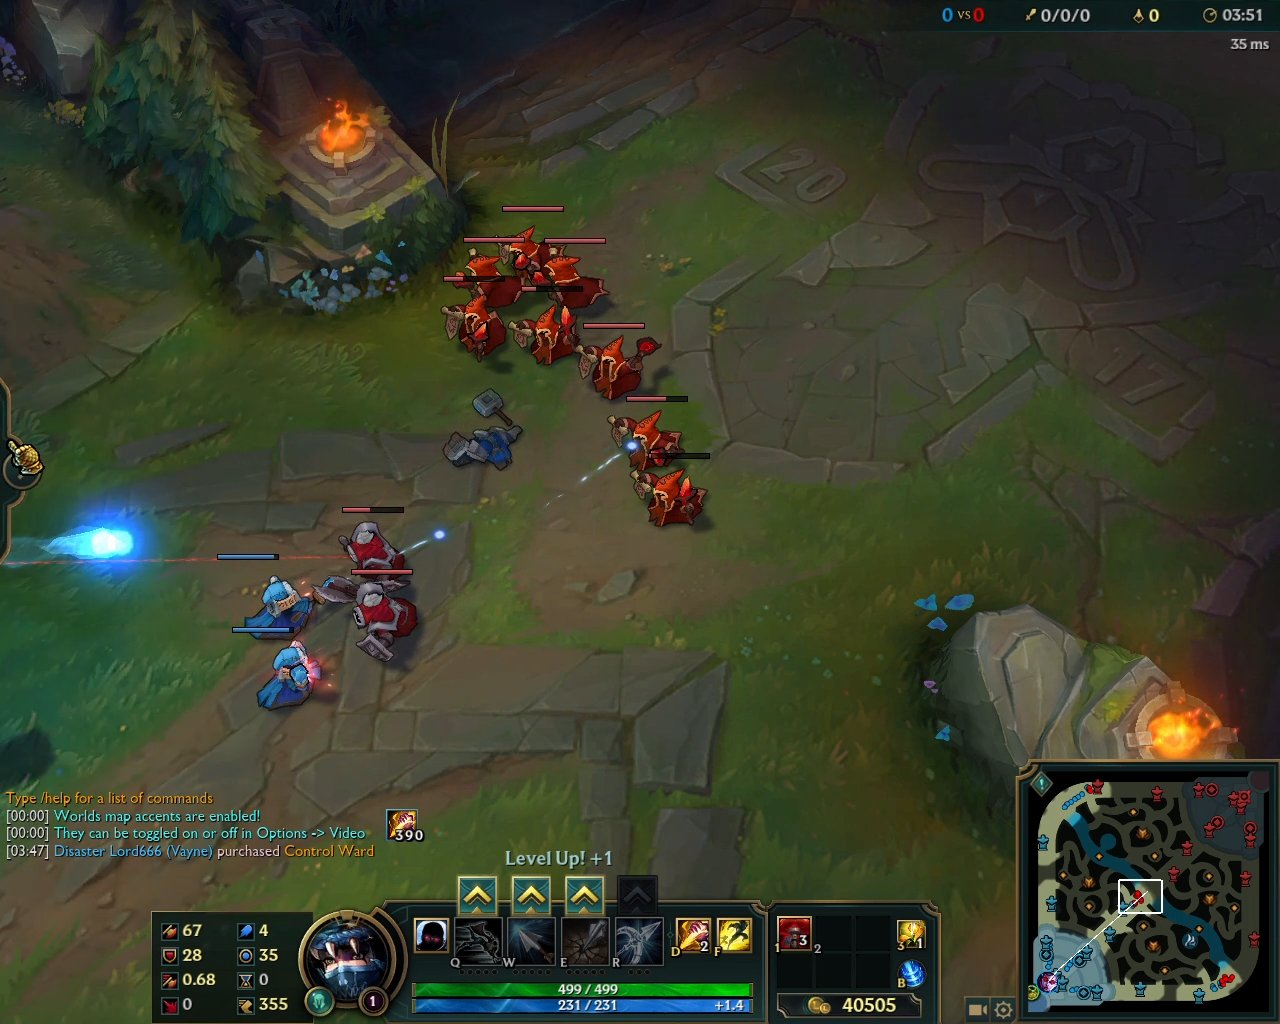EnemyMinion: (308, 567, 419, 669), (574, 322, 661, 403), (505, 286, 586, 371), (627, 450, 709, 533), (334, 505, 411, 594), (602, 396, 689, 473), (439, 274, 506, 366), (530, 237, 611, 311), (450, 236, 526, 311), (493, 207, 566, 272)
